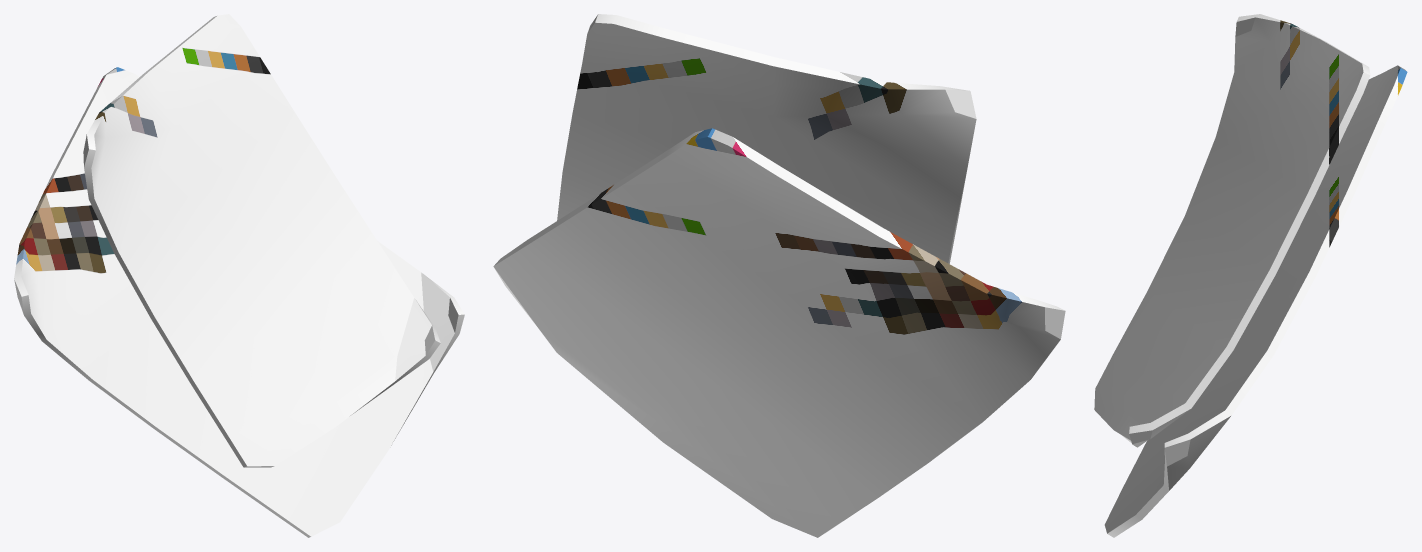
File: paper-scrap.glb
3 renders of one model, left to right at view 1: azimuth 30°, elevation 25°; view 2: azimuth 150°, elevation 25°; view 3: azimuth 270°, elevation 25°, orthographic. The views are drawn at different scales.
Parts seen in each view (by area): view 1: UI_Paper; view 2: UI_Paper; view 3: UI_Paper.
Boxes of the visible parts, bbox=[...] form: UI_Paper: bbox=[14, 14, 464, 537]; UI_Paper: bbox=[493, 14, 1065, 537]; UI_Paper: bbox=[1094, 14, 1407, 537].
Size of the model in its own units: 0.5096 by 0.5156 by 0.3065.
1 material, 1 textured.
